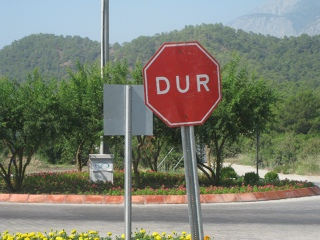dur: (140, 42, 215, 125)
